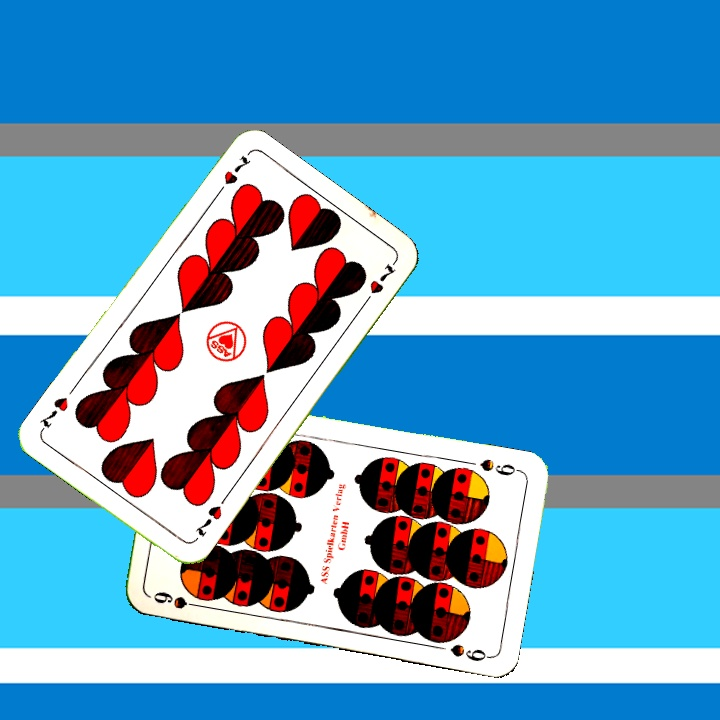H7: (210, 150, 254, 201), (190, 501, 225, 539)
S9: (149, 587, 207, 612), (475, 455, 524, 479)
